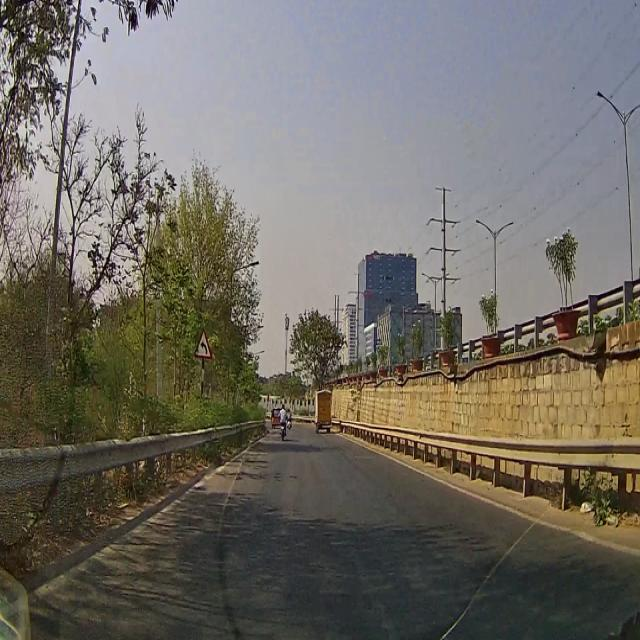left-hand-curve: (193, 325, 212, 355)
